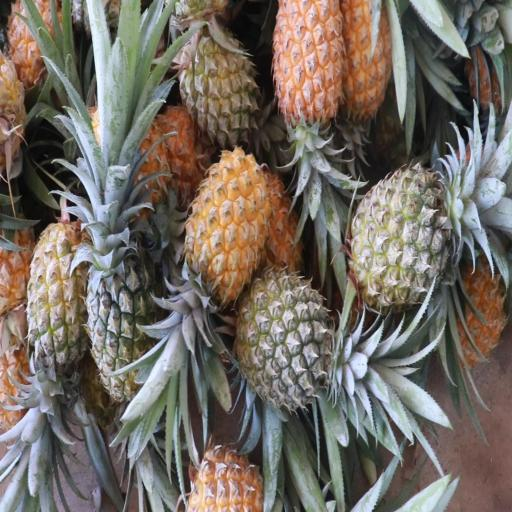------------------------------: (25, 217, 90, 455)
Pineapple - v8 v1: (169, 153, 274, 340), (271, 0, 343, 213), (338, 0, 394, 163)
